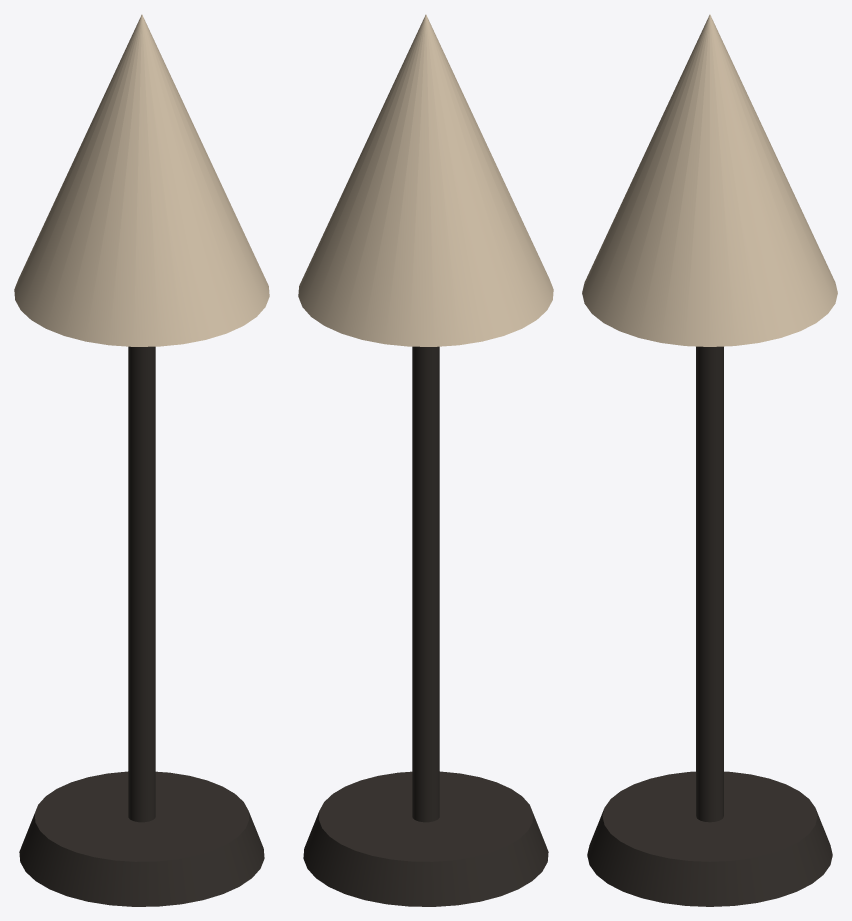
Rendered from lamps-20.glb.
The picture shows the model from 3 angles, left to right: view 1: azimuth 30°, elevation 25°; view 2: azimuth 150°, elevation 25°; view 3: azimuth 270°, elevation 25°; orthographic projection.
Visible parts, largest first — view 1: lamp-shade, lamp-base, lamp-stem; view 2: lamp-shade, lamp-base, lamp-stem; view 3: lamp-shade, lamp-base, lamp-stem.
Boxes of the visible parts, left/top/right/bottom form: lamp-shade: left=14, top=14, right=269, bottom=346; lamp-base: left=19, top=771, right=264, bottom=906; lamp-stem: left=128, top=346, right=155, bottom=822; lamp-shade: left=298, top=14, right=553, bottom=346; lamp-base: left=303, top=771, right=548, bottom=906; lamp-stem: left=412, top=346, right=439, bottom=822; lamp-shade: left=582, top=14, right=837, bottom=346; lamp-base: left=587, top=771, right=832, bottom=906; lamp-stem: left=696, top=346, right=723, bottom=822.
Bounding box in the file's own units: 0.48 × 1.74 × 0.48.
